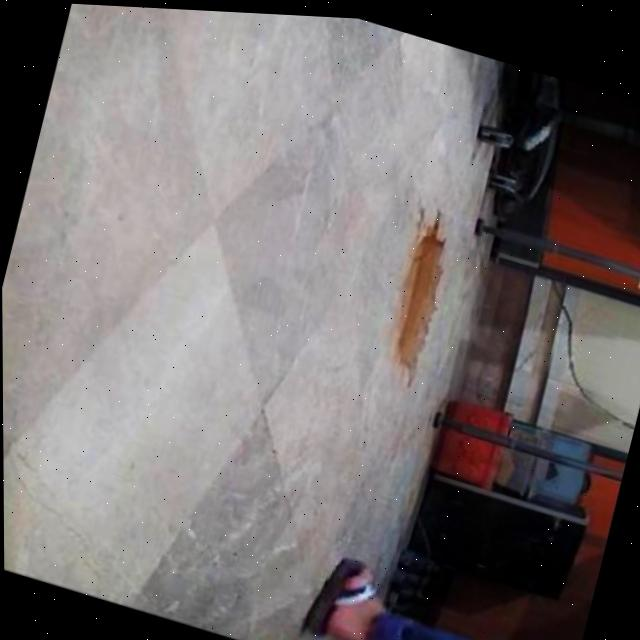spillage: (393, 206, 441, 361)
